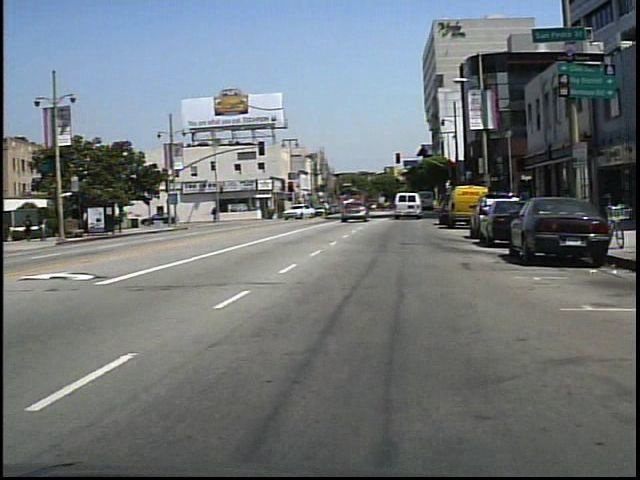person: (39, 214, 55, 245), (26, 212, 40, 243), (213, 205, 222, 225)
